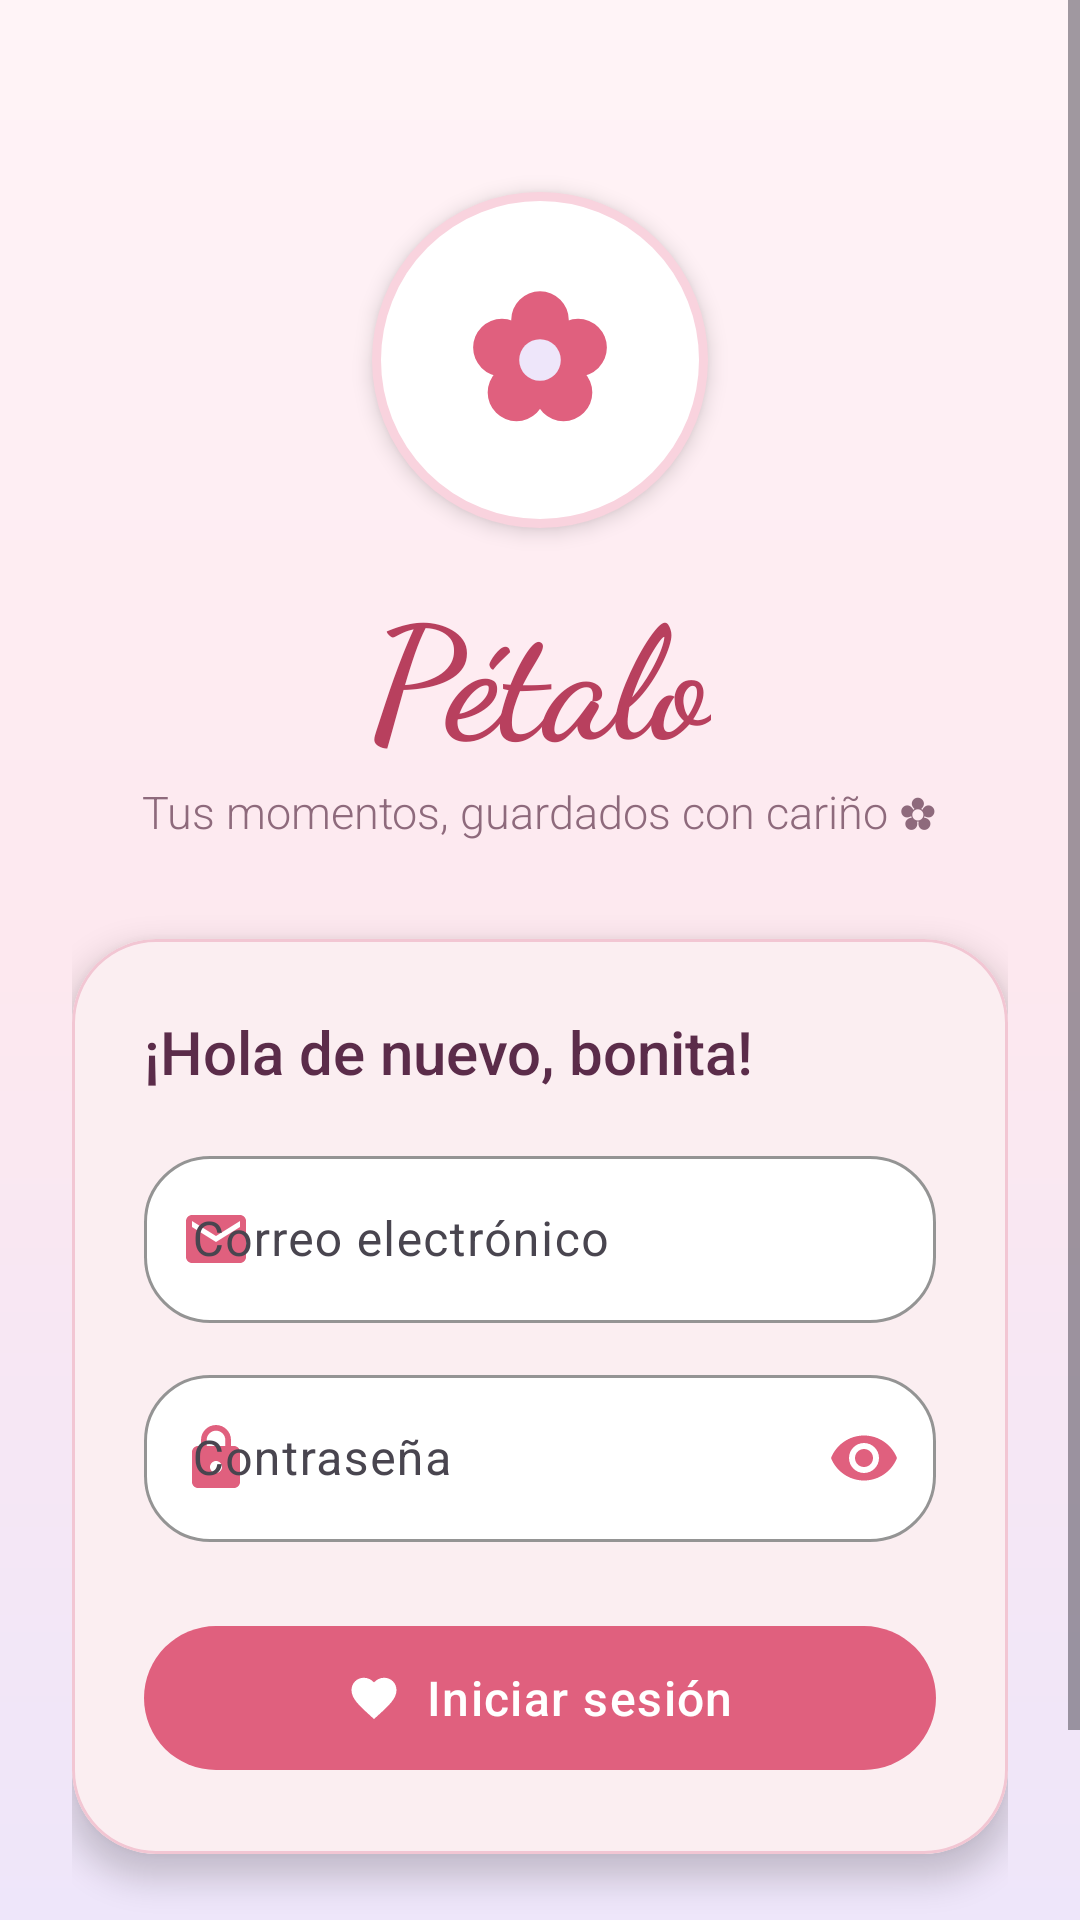

Point at icon controls on the screen. Image size 1080×1920, points as (x=x, y=y).
flor: (x=540, y=356)
